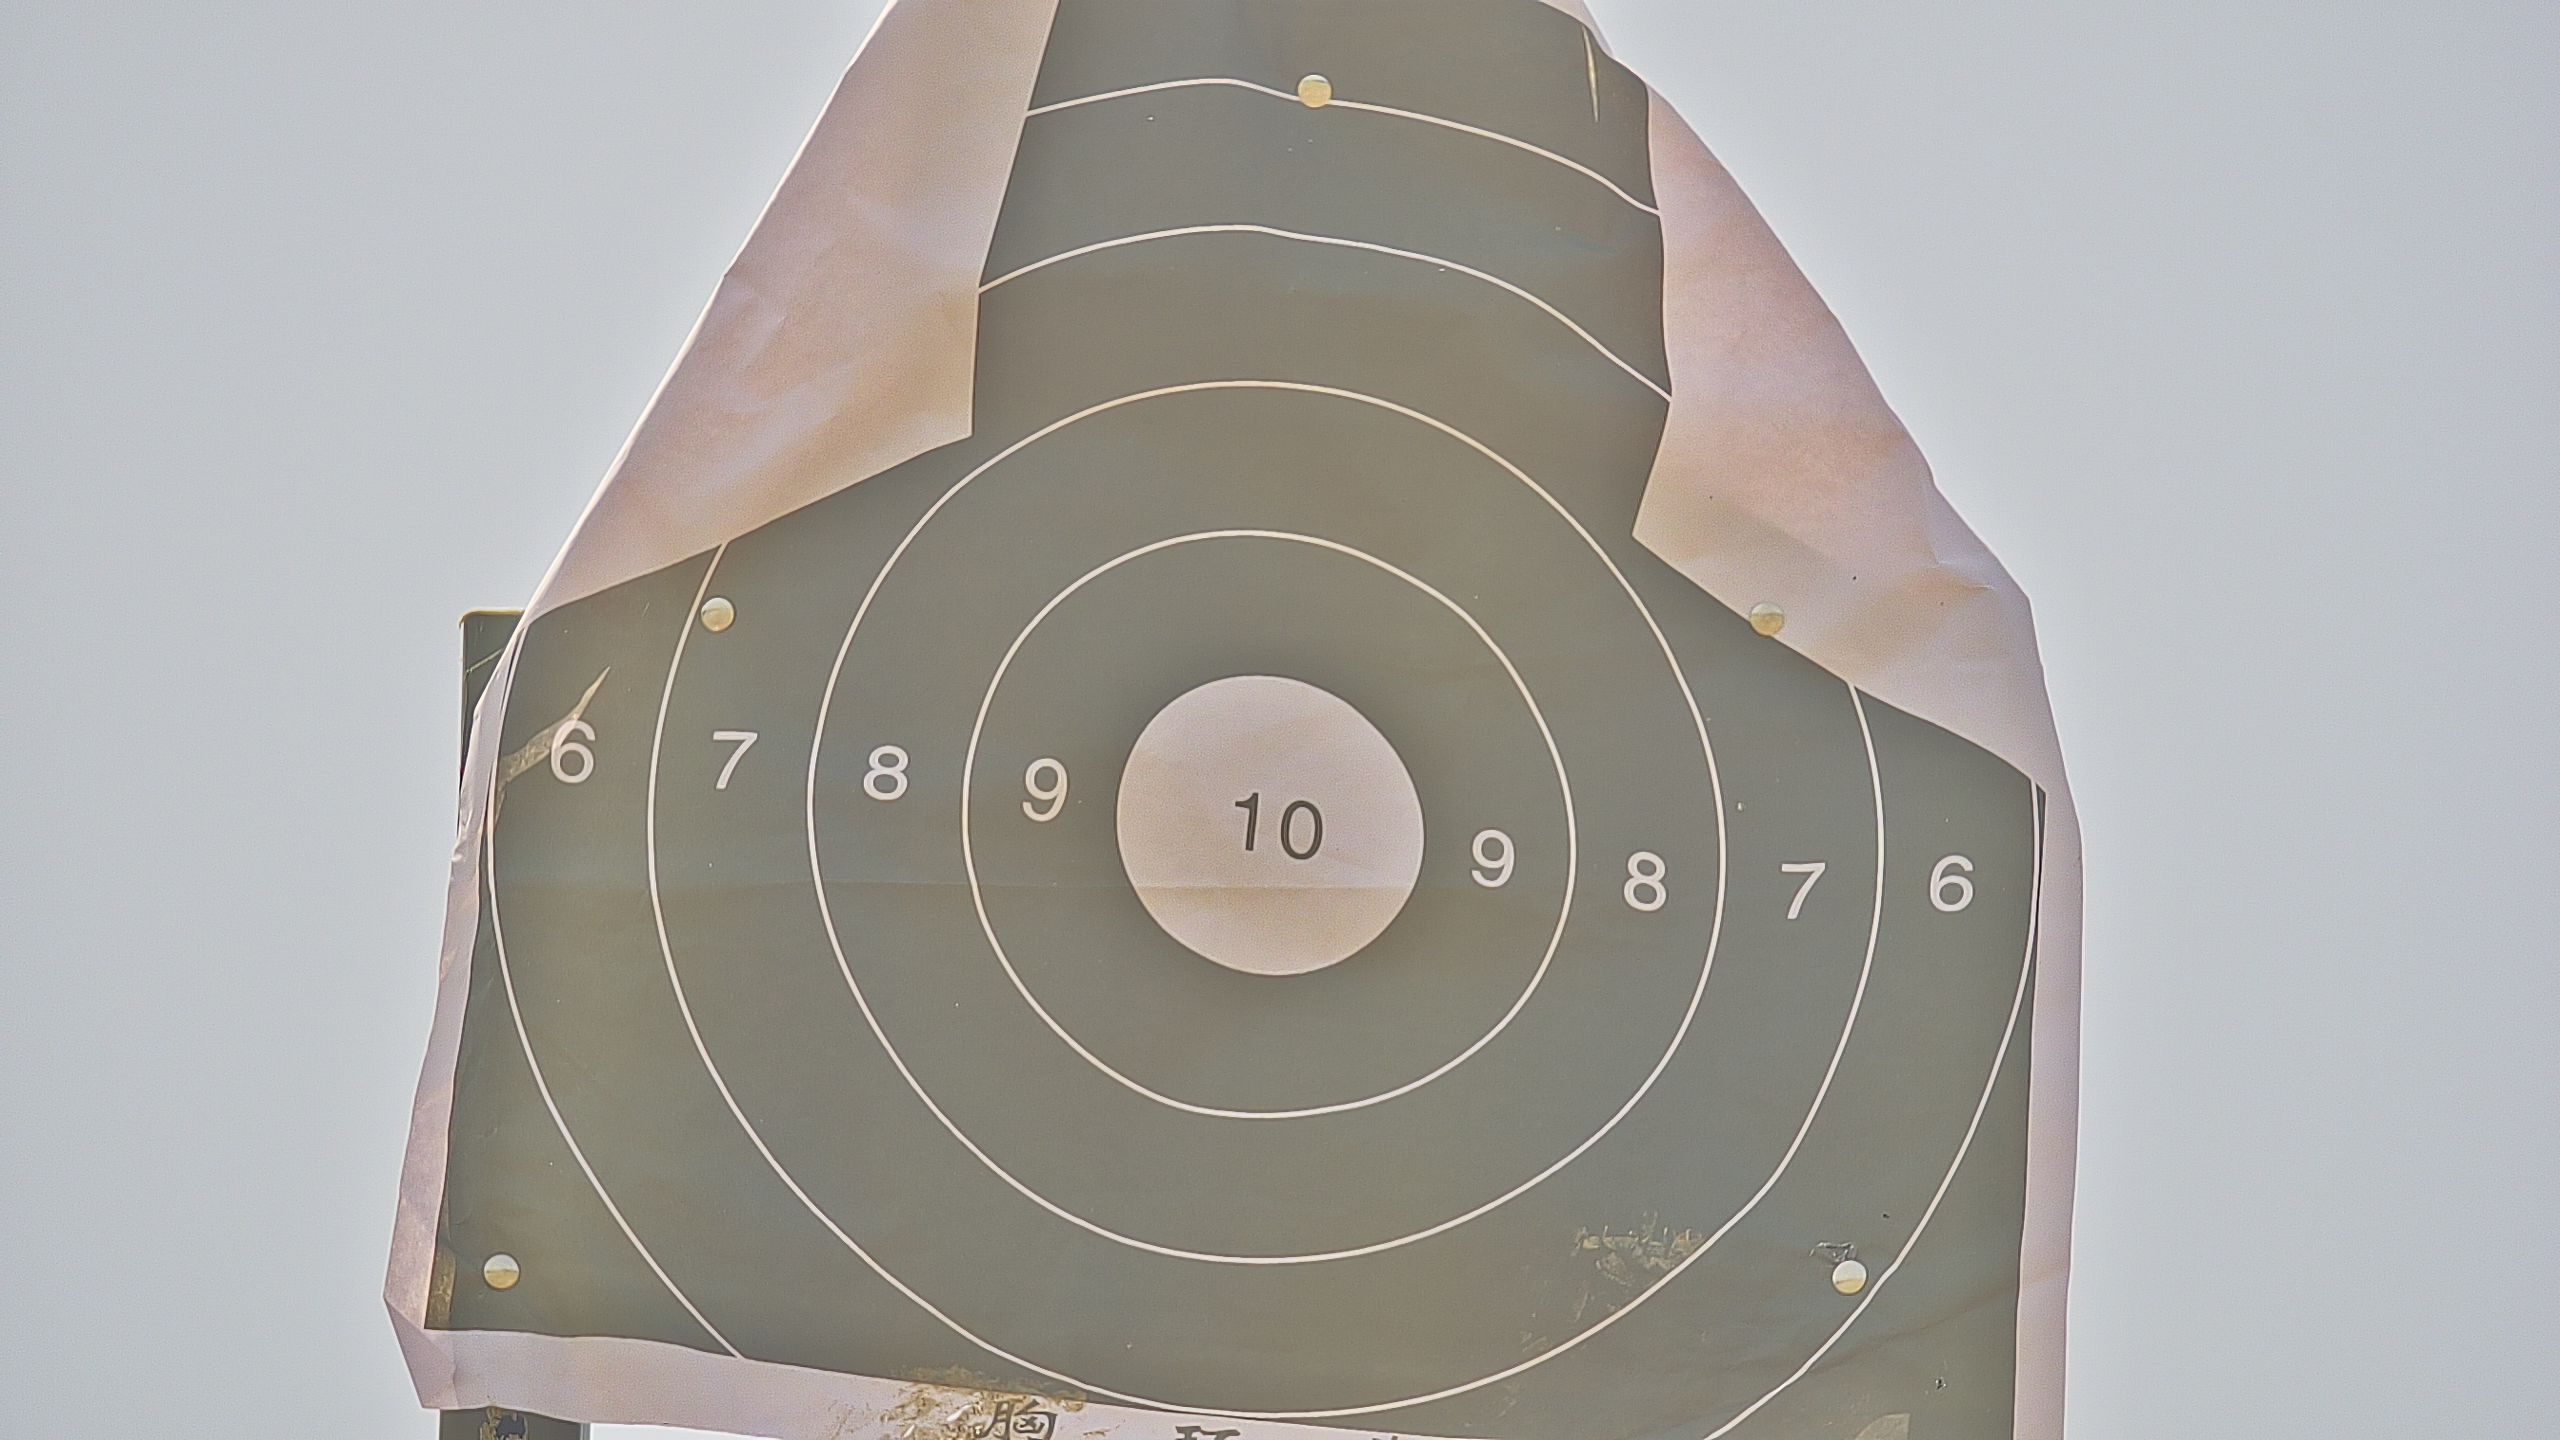kernel: (1261, 826, 1266, 828)
target: (425, 7, 2048, 1440)
ten: (1116, 672, 1428, 976)
